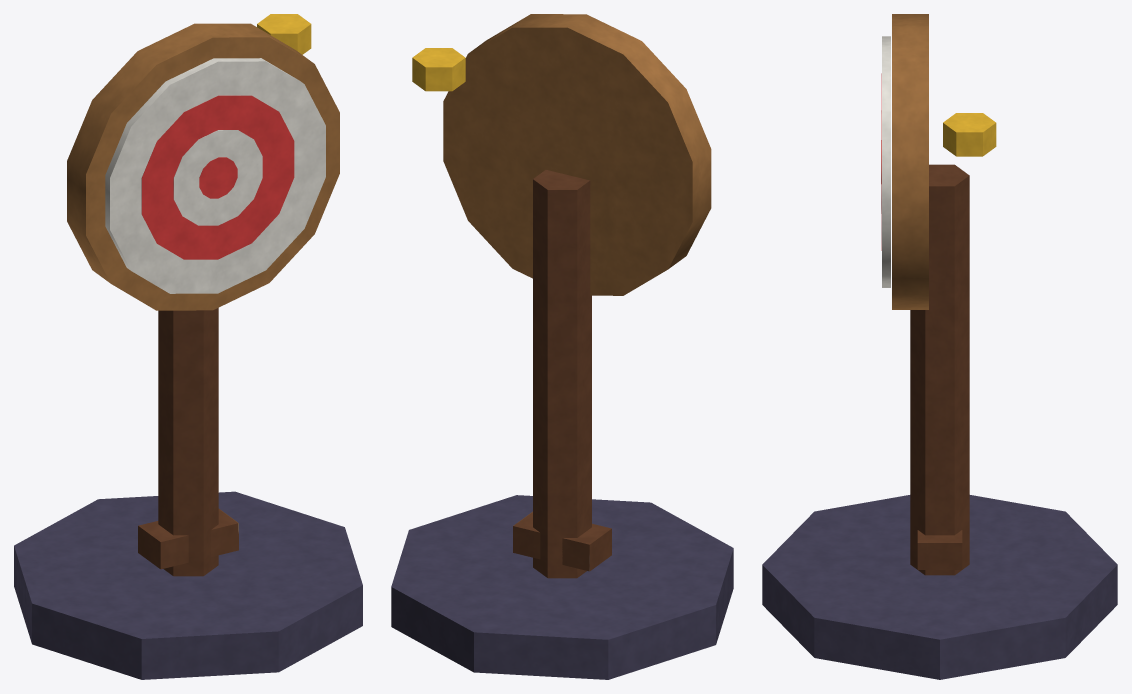
Rendered from training_dummy.fbx.
3 renders of one model, left to right at view 1: azimuth 30°, elevation 25°; view 2: azimuth 150°, elevation 25°; view 3: azimuth 270°, elevation 25°, orthographic.
Parts seen in each view (by area): view 1: Training_dummy; view 2: Training_dummy; view 3: Training_dummy.
Boxes of the visible parts, box(x1,y1,x2,y2) form: Training_dummy: box(14, 14, 362, 679); Training_dummy: box(391, 14, 733, 679); Training_dummy: box(762, 14, 1117, 679).
Bounding box in the file's own units: 2.4 × 4.3 × 2.4.
Materials: 1 (1 with a texture image).
